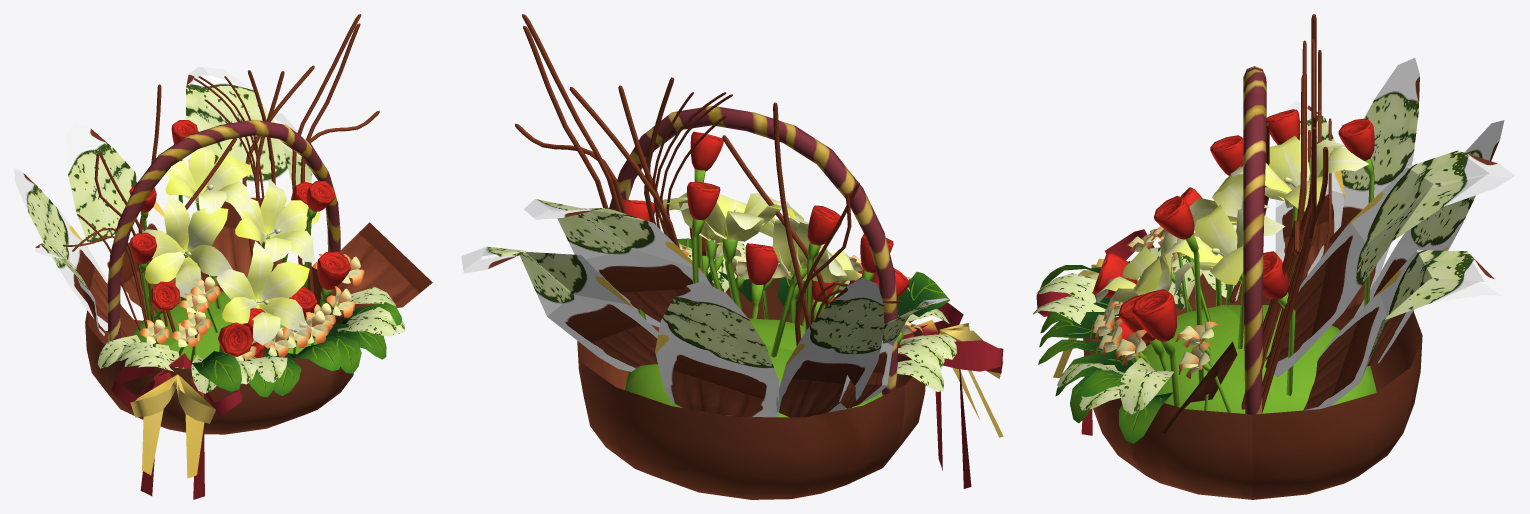
The model's file is Flower09.fbx.
The picture shows the model from 3 angles, left to right: view 1: azimuth 30°, elevation 25°; view 2: azimuth 150°, elevation 25°; view 3: azimuth 270°, elevation 25°; orthographic projection. The views are drawn at different scales.
Parts seen in each view (by area): view 1: Flower09m; view 2: Flower09m; view 3: Flower09m.
Part boxes in pixels (x1,y1,x2,y2): Flower09m: (14,14,432,499); Flower09m: (461,14,1003,499); Flower09m: (1033,14,1515,499).
Bounding box in the file's own units: 5.58 × 5.55 × 5.04.
Materials: 1 (1 with a texture image).
